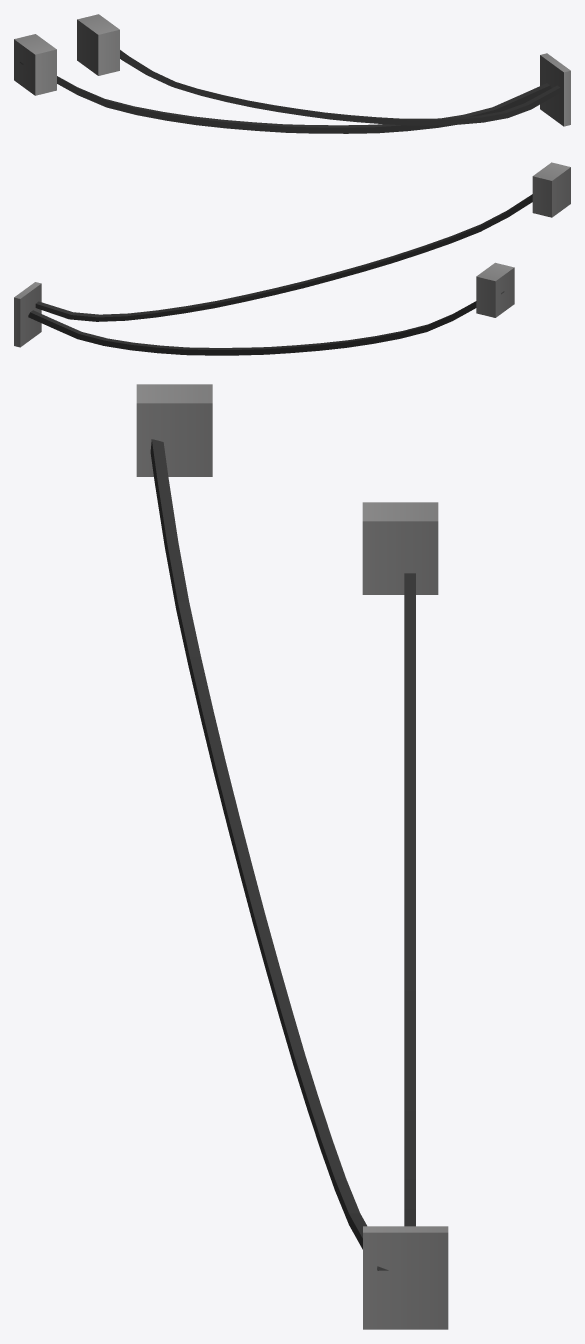
The model's file is B02_cable_3.fbx.
3 views of the same model, one above another, from view 1: azimuth 30°, elevation 25°; view 2: azimuth 150°, elevation 25°; view 3: azimuth 270°, elevation 25° (orthographic). The views are drawn at different scales.
Visible parts, largest first — view 1: B02_cable_3; view 2: B02_cable_3; view 3: B02_cable_3.
Boxes of the visible parts, x1,y1,x2,y2 form: B02_cable_3: (14,14,570,133); B02_cable_3: (14,162,570,355); B02_cable_3: (136,384,448,1329).
Bounding box in the file's own units: 950 × 451 × 266.
